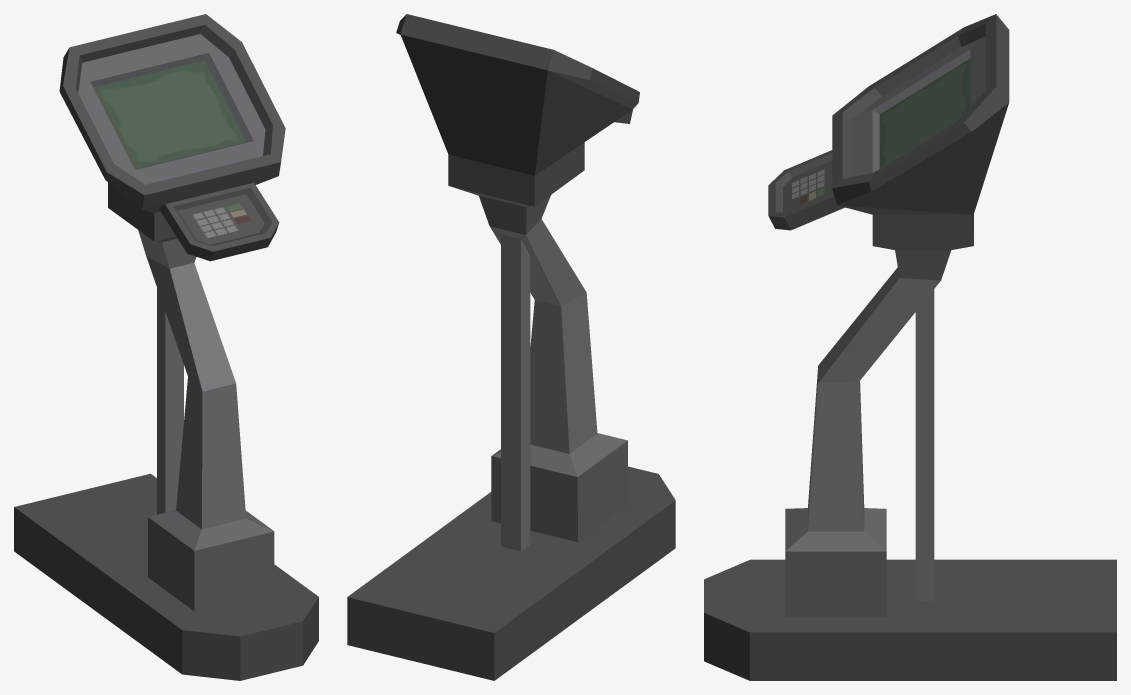
The model's file is city_SM_Prop_ControlPanel_01.gltf.
The picture shows the model from 3 angles, left to right: view 1: azimuth 30°, elevation 25°; view 2: azimuth 150°, elevation 25°; view 3: azimuth 270°, elevation 25°; orthographic projection. The views are drawn at different scales.
Visible parts, largest first — view 1: SM_Prop_ControlPanel_01; view 2: SM_Prop_ControlPanel_01; view 3: SM_Prop_ControlPanel_01.
Part boxes in pixels (bbox=[...]): SM_Prop_ControlPanel_01: bbox=[14, 14, 318, 680]; SM_Prop_ControlPanel_01: bbox=[347, 14, 675, 680]; SM_Prop_ControlPanel_01: bbox=[704, 14, 1116, 680].
Bounding box in the file's own units: 0.3765 × 1.09 × 0.6893.
Materials: 1 (1 with a texture image).
